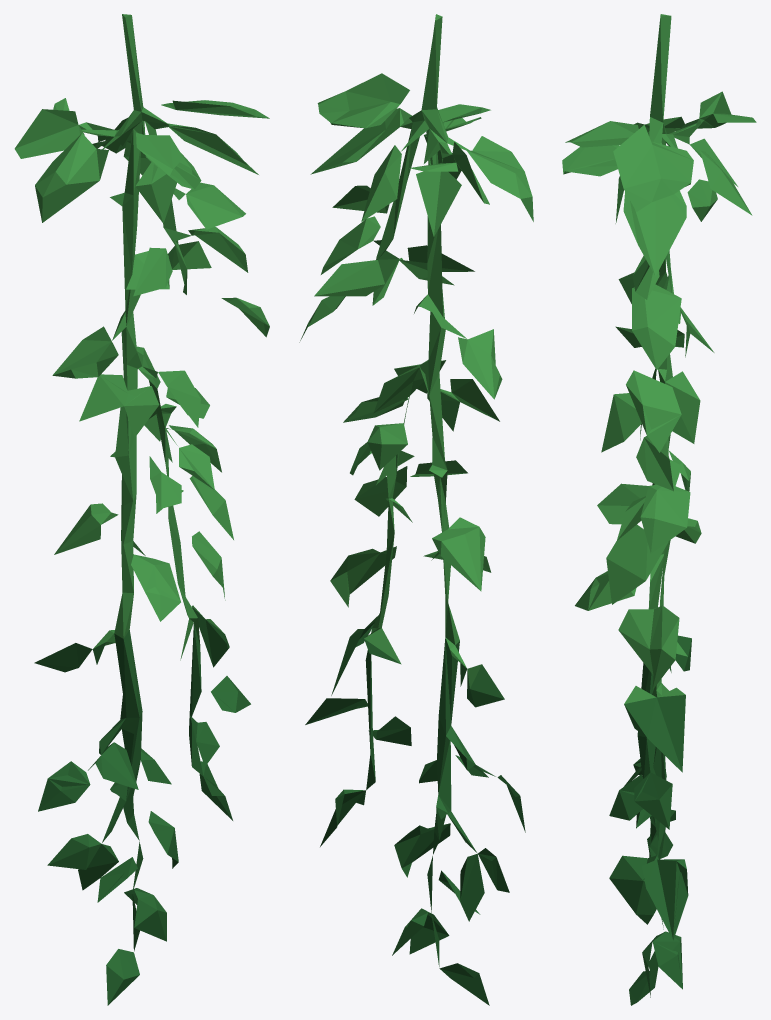
Rendered from vine-3.glb.
The picture shows the model from 3 angles, left to right: view 1: azimuth 30°, elevation 25°; view 2: azimuth 150°, elevation 25°; view 3: azimuth 270°, elevation 25°; orthographic projection. The views are drawn at different scales.
Visible parts, largest first — view 1: output_unwrapped; view 2: output_unwrapped; view 3: output_unwrapped.
Boxes of the visible parts, left/top/right/bottom form: output_unwrapped: left=14, top=14, right=269, bottom=1005; output_unwrapped: left=299, top=14, right=533, bottom=1005; output_unwrapped: left=562, top=14, right=756, bottom=1005.
Bounding box in the file's own units: 0.7329 × 3 × 0.5244.
